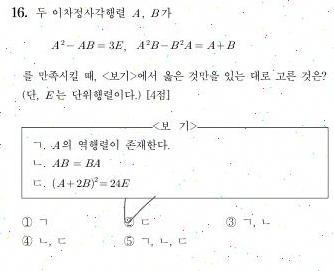choice: (121, 208, 136, 228)
not-choice: (224, 215, 238, 228), (122, 234, 136, 247), (20, 234, 33, 247), (20, 216, 33, 227)
